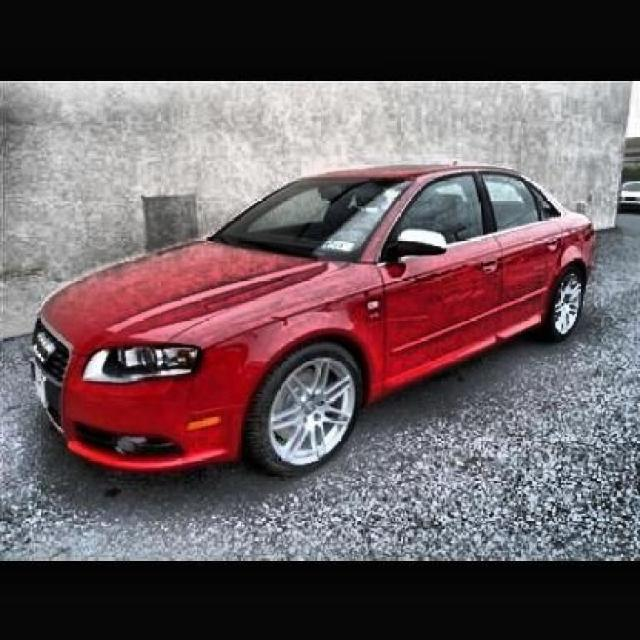maroon: (36, 131, 640, 487)
